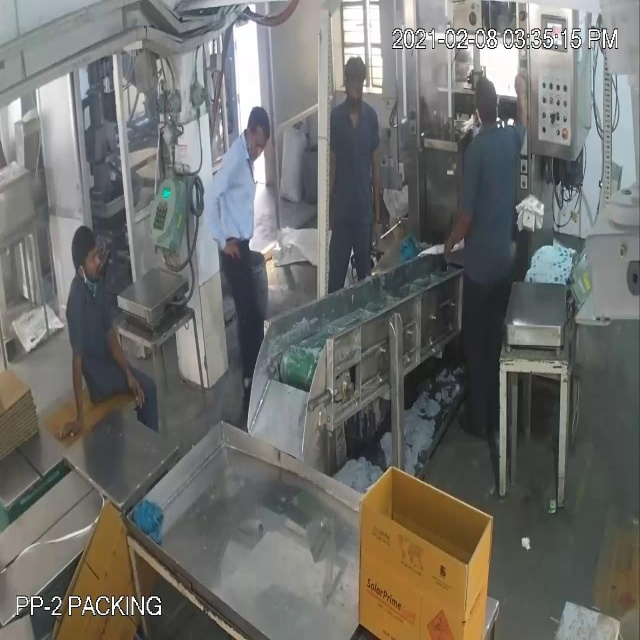Sin_guantes: (55, 332, 102, 468), (97, 308, 152, 420), (202, 163, 246, 276), (367, 124, 391, 251), (433, 193, 477, 260), (511, 66, 536, 155)
